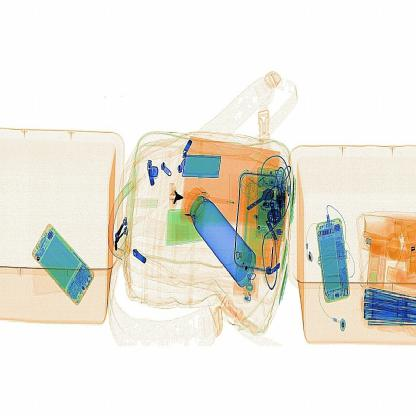gun: (164, 172, 186, 210)
